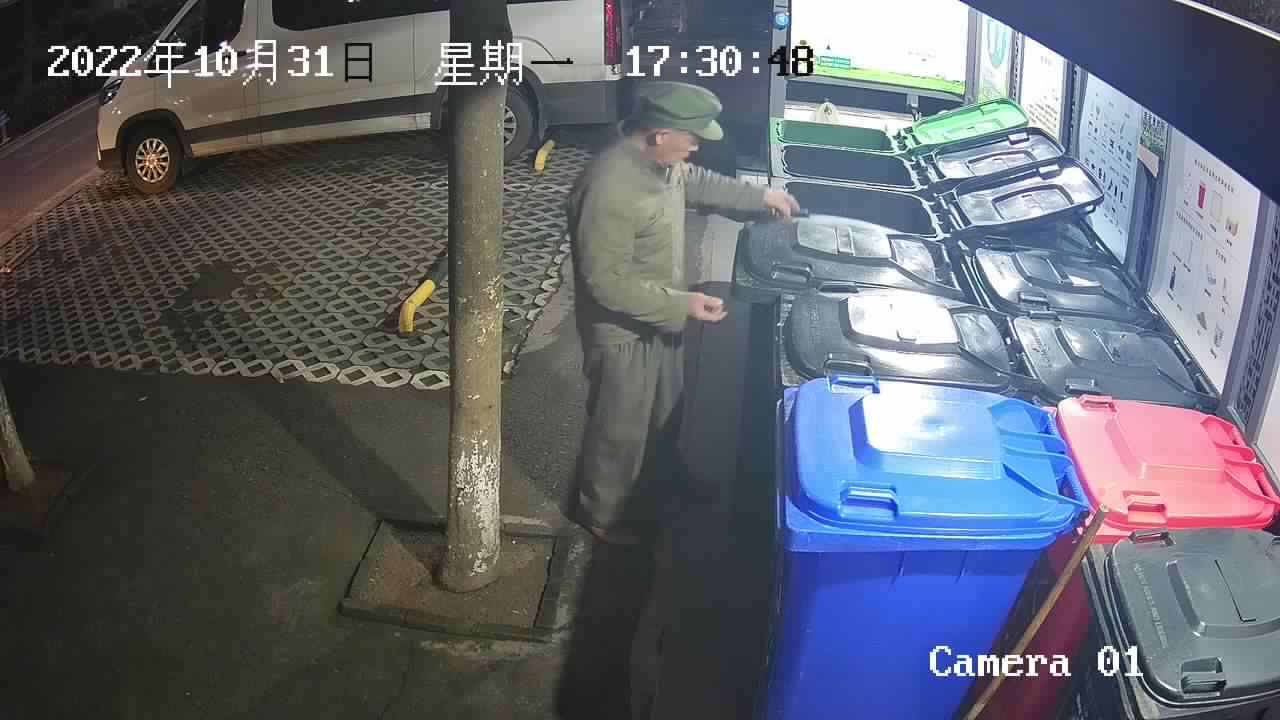person: (565, 80, 805, 550)
